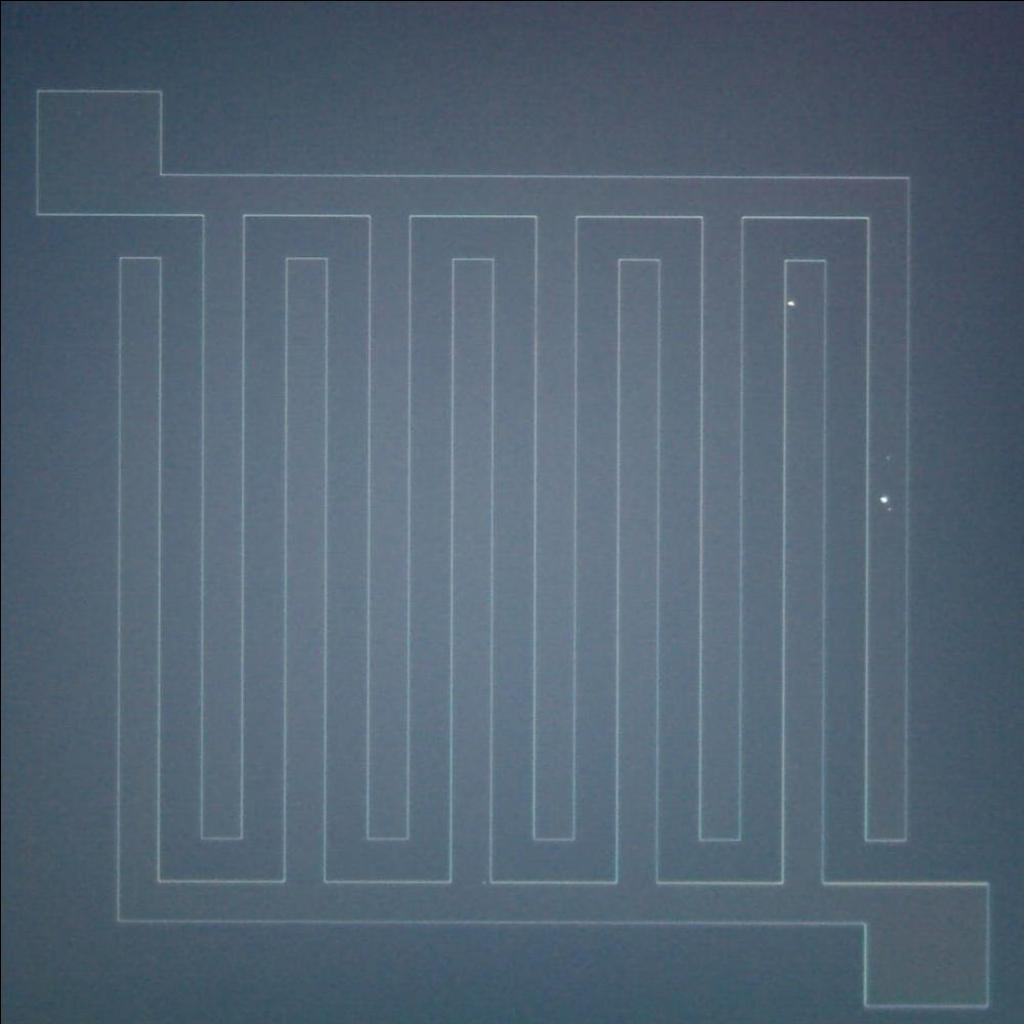dot: (868, 483, 896, 505), (780, 291, 802, 317)
